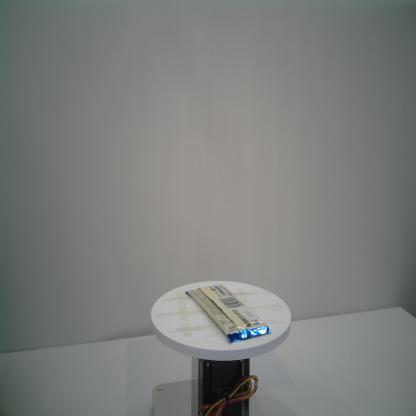Chocolate: (185, 284, 272, 344)
